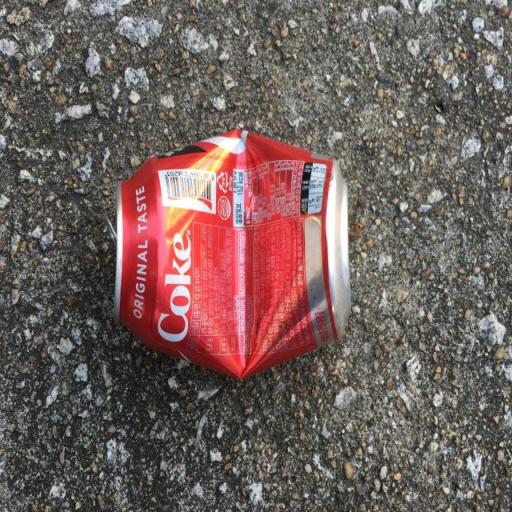metal: (86, 115, 380, 406)
